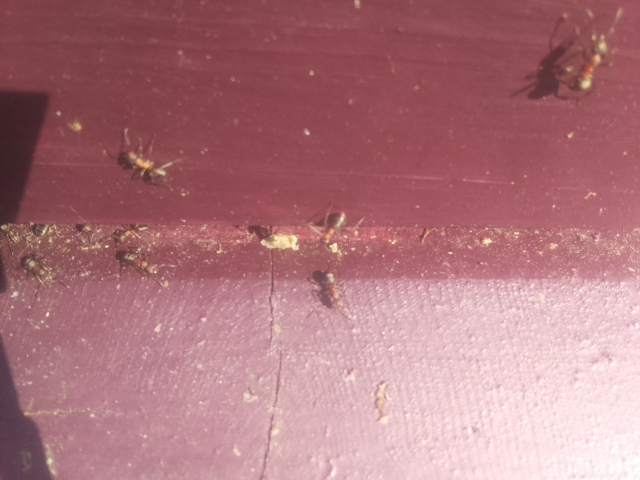ant: (571, 29, 613, 93), (114, 145, 174, 185), (108, 243, 164, 279), (315, 262, 348, 317), (12, 250, 59, 286), (319, 208, 349, 247), (377, 374, 393, 424)
